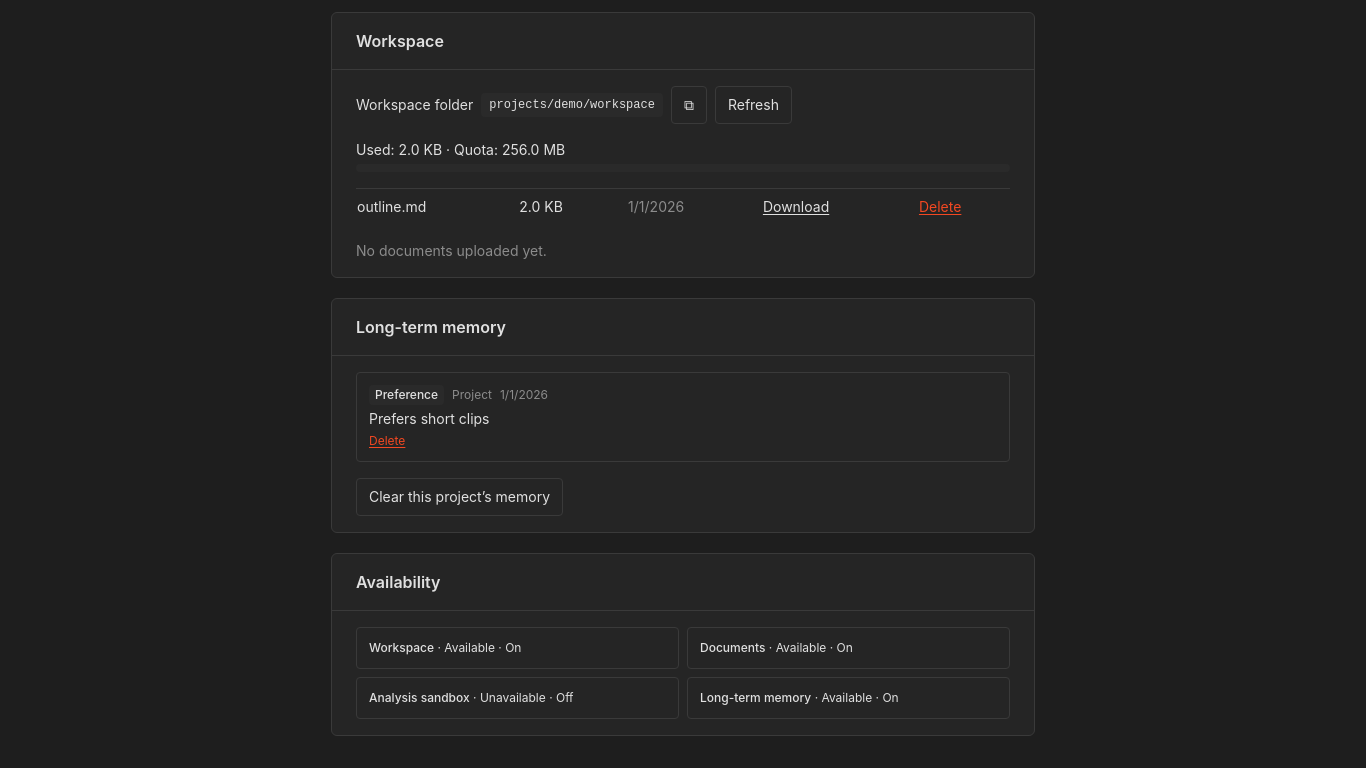
Agent 能力设置面板 › 记忆列表渲染条目并清空本项目记忆需二次确认
This screenshot has width=1366, height=768.
Check: the text "Prefers short clips" is shown, box x1=369 y1=410 x2=490 y2=427
Check: the text "Preference" is shown, box x1=369 y1=385 x2=444 y2=405
Click the button "Clear this project’s memory".
click(460, 497)  # box x1=356 y1=478 x2=563 y2=516
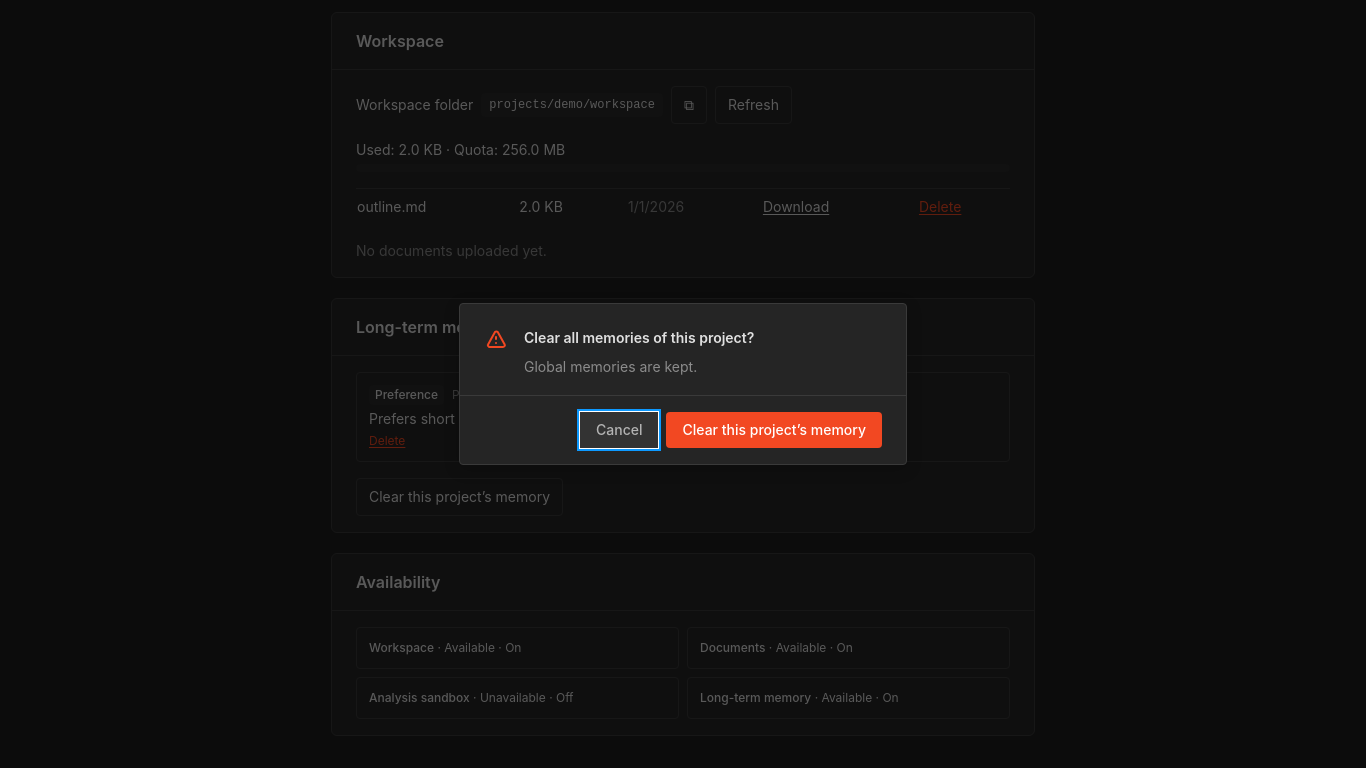
Check: the dialog shows "Clear all memories of this project?", box x1=524 y1=329 x2=754 y2=346
Check: the dialog shows "Global memories are kept.", box x1=524 y1=358 x2=697 y2=375
Click the button "Clear this project’s memory".
click(774, 430)  # box x1=666 y1=412 x2=882 y2=448
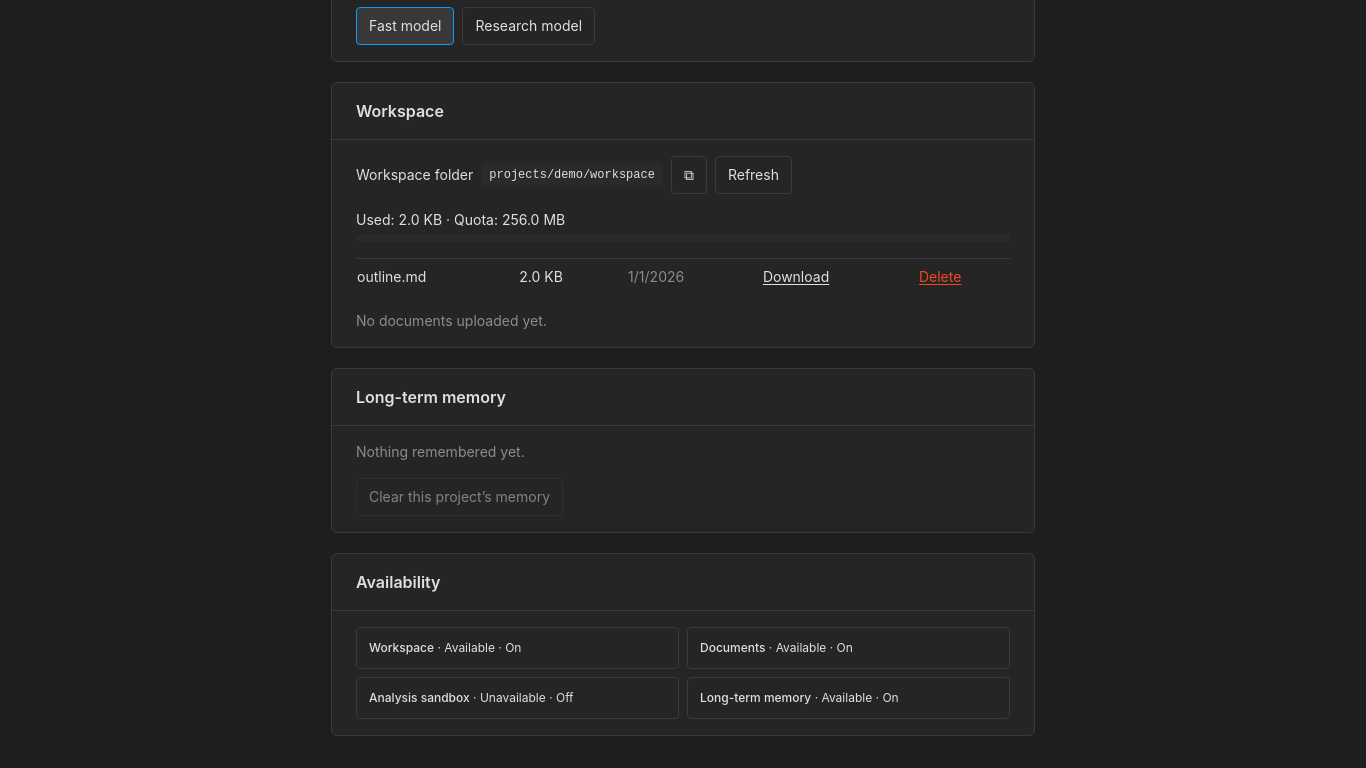
Check: the text "Nothing remembered yet." is shown, box x1=356 y1=443 x2=525 y2=460
